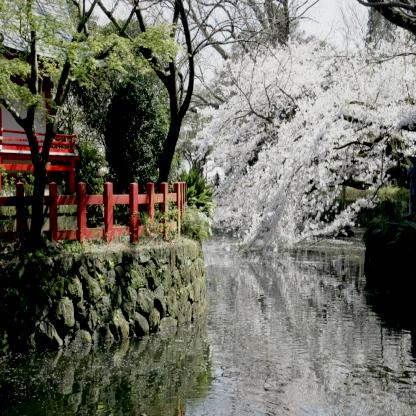Someiyoshino: (189, 32, 415, 244)
